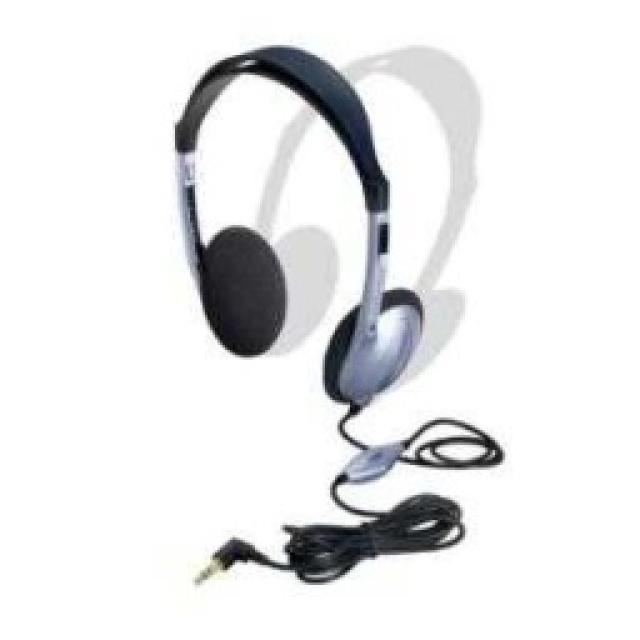headphones: (170, 40, 425, 408)
